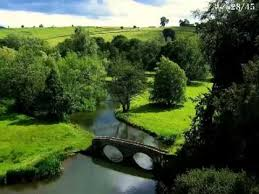mountain: (3, 25, 259, 187)
tree: (182, 2, 259, 176)
